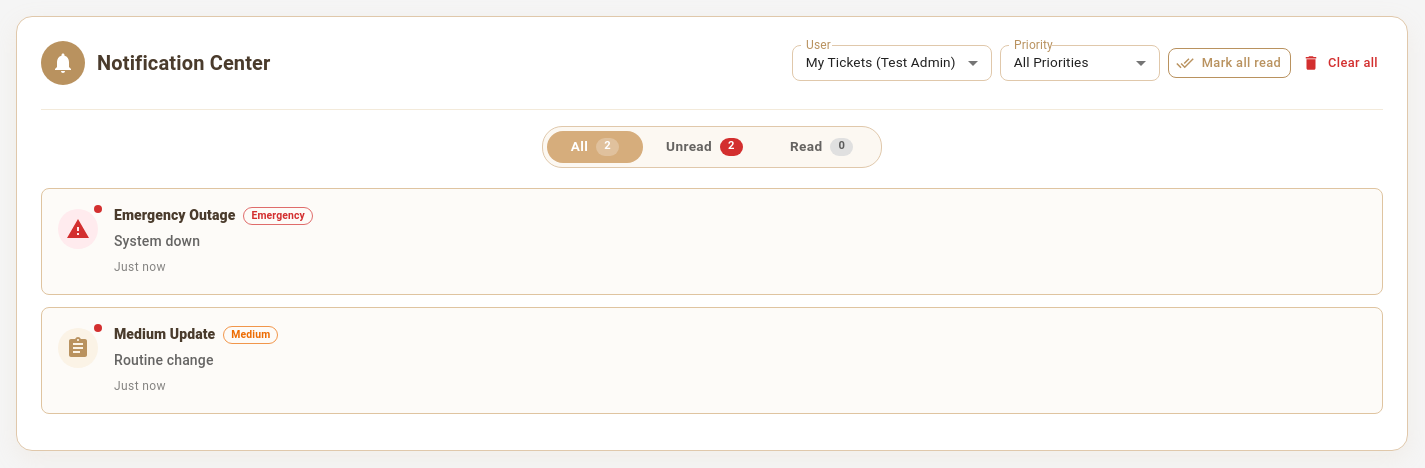
Scenario: NotificationScreen Component › filters tickets by Priority dropdown (Emergency, High, Medium, Low) on admin login
The width and height of the screenshot is (1425, 468).
Expected: the heading "Emergency Outage" is shown, [114, 205, 235, 227]
Expected: the heading "Medium Update" is shown, [114, 324, 215, 346]
Step 1. Press the mouse on the dropdown named "Priority" → (1051, 62), box [1014, 54, 1089, 70]
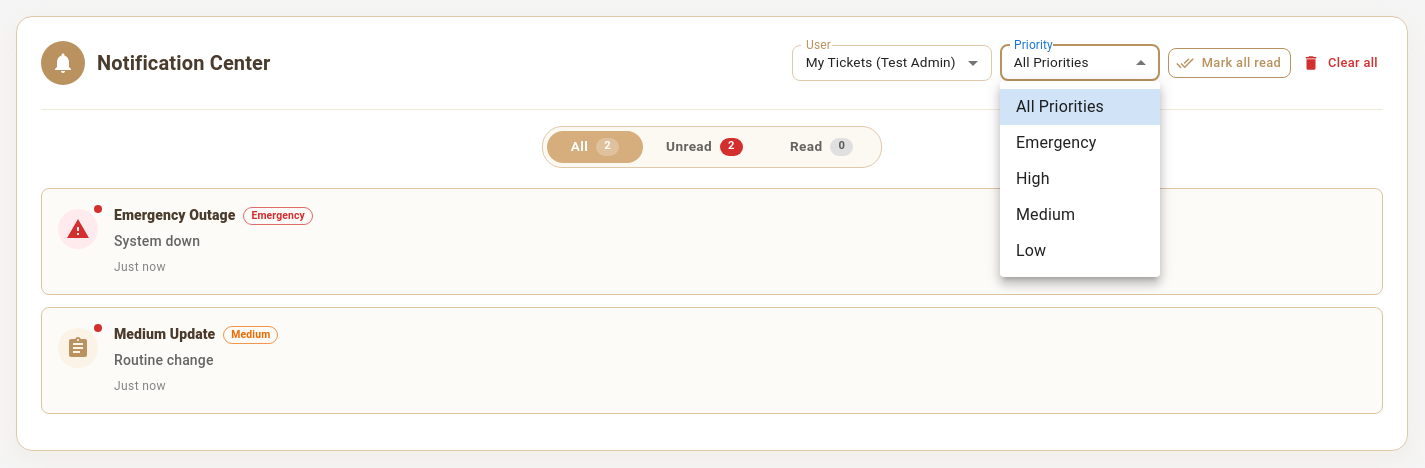
Expected: the option "Emergency" is shown
Expected: the option "High" is shown, [1016, 169, 1050, 188]
Expected: the option "Medium" is shown, [1016, 205, 1075, 224]
Step 2. Click the option "Emergency" → (1056, 142), box [1016, 133, 1096, 152]
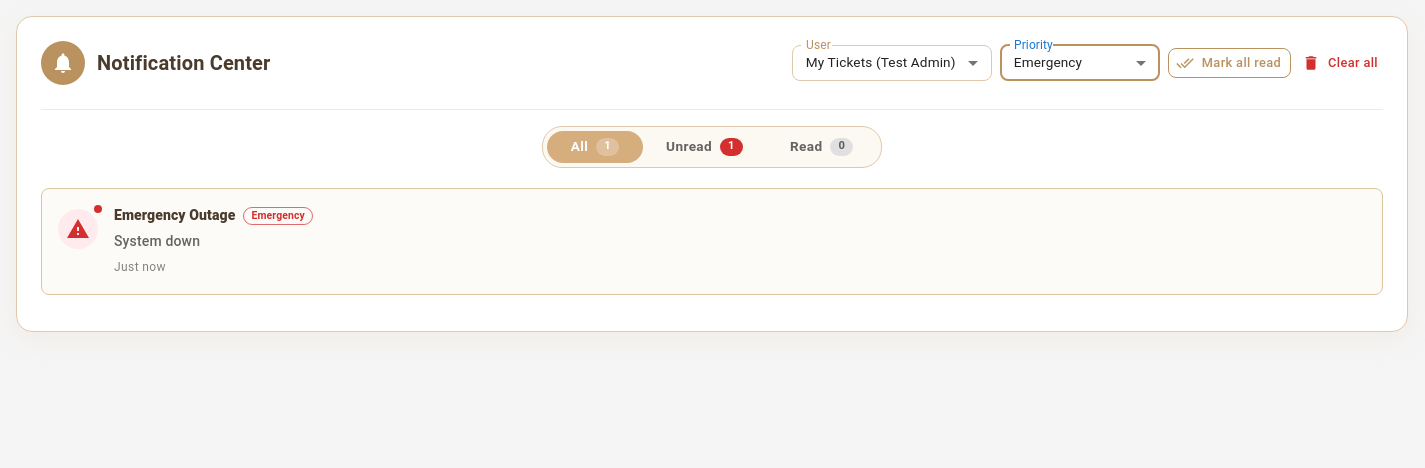
Expected: the heading "Emergency Outage" is shown, [114, 205, 235, 227]
Expected: the heading "Medium Update" is gone
